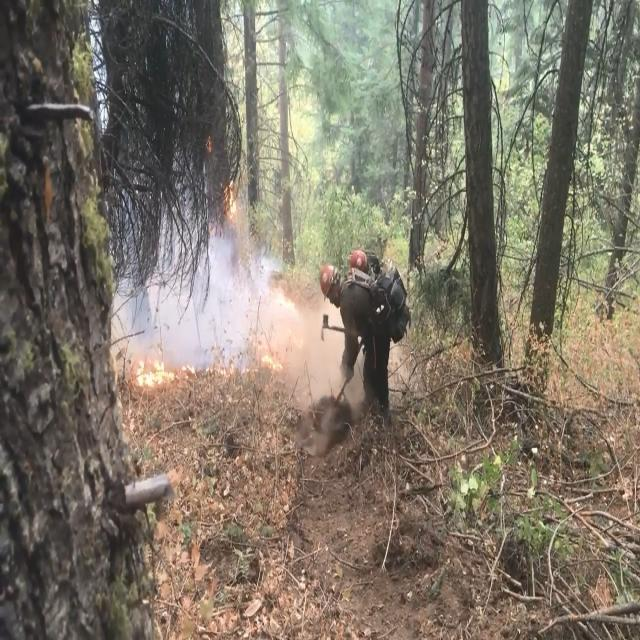Fire: (120, 177, 306, 398)
